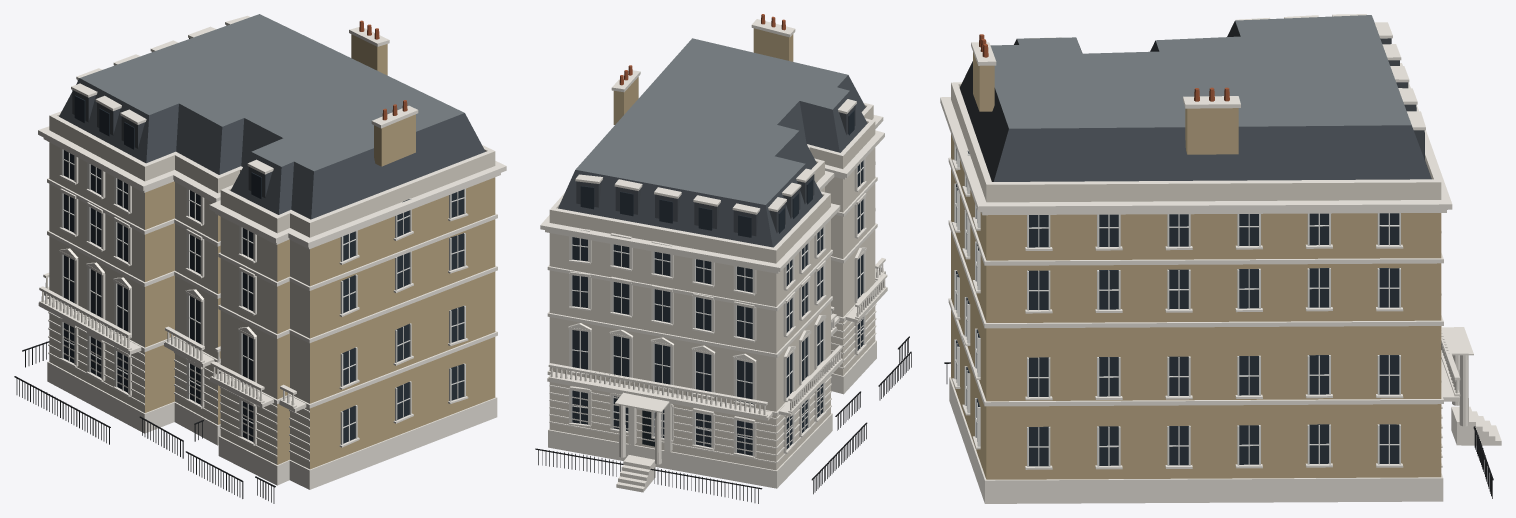
File: sorbonne_house.glb
3 views of the same model, side by side, from view 1: azimuth 30°, elevation 25°; view 2: azimuth 150°, elevation 25°; view 3: azimuth 270°, elevation 25° (orthographic). The views are drawn at different scales.
Bounding box in the file's own units: 20.63 × 22.17 × 26.04.
